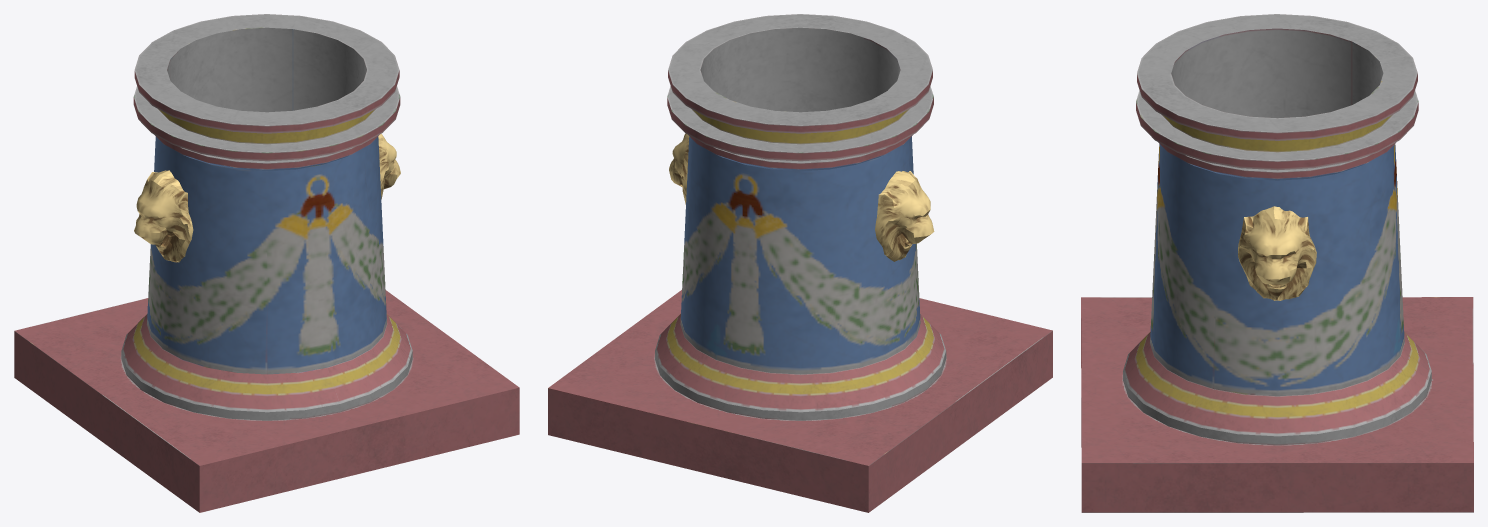
Rendered from Mh_Vase.fbx.
3 views of the same model, side by side, from view 1: azimuth 30°, elevation 25°; view 2: azimuth 150°, elevation 25°; view 3: azimuth 270°, elevation 25° (orthographic). The views are drawn at different scales.
Visible parts, largest first — view 1: Mh_Temple.001; view 2: Mh_Temple.001; view 3: Mh_Temple.001.
Part boxes in pixels (x1,y1,x2,y2): Mh_Temple.001: (14,14,519,512); Mh_Temple.001: (548,14,1052,512); Mh_Temple.001: (1081,14,1473,512).
Size of the model in its own units: 111 by 111 by 111.
